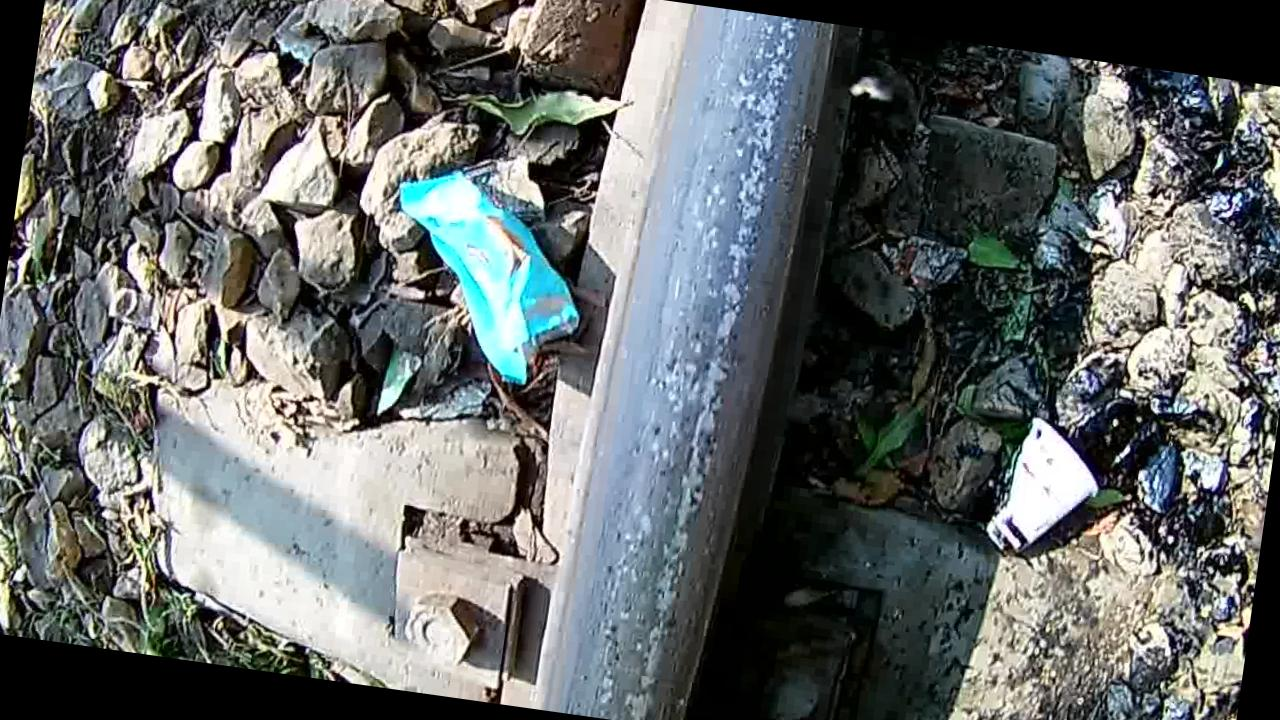clip_missing: (549, 0, 853, 720)
